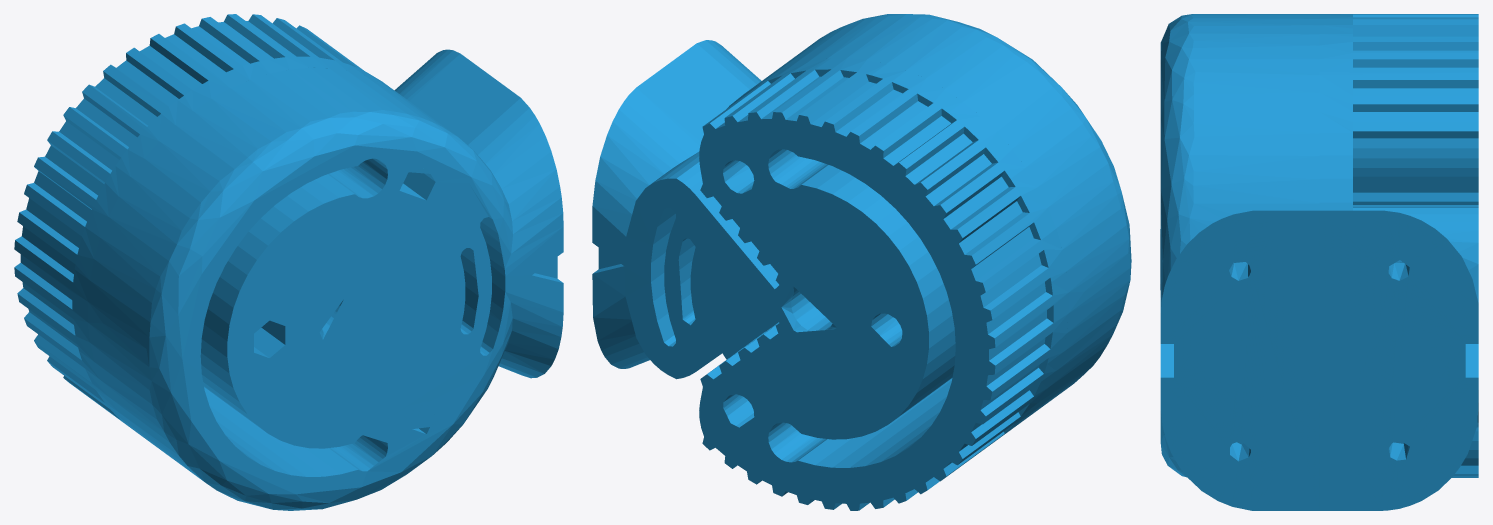
File: BCN3DMoveoLink6.dae
The picture shows the model from 3 angles, left to right: view 1: azimuth 30°, elevation 25°; view 2: azimuth 150°, elevation 25°; view 3: azimuth 270°, elevation 25°; orthographic projection. The views are drawn at different scales.
Visible parts, largest first — view 1: BCN3DLink6; view 2: BCN3DLink6; view 3: BCN3DLink6.
Part boxes in pixels (<box>): BCN3DLink6: <box>14,14,563,510</box>; BCN3DLink6: <box>592,14,1131,510</box>; BCN3DLink6: <box>1160,14,1478,510</box>.
Bounding box in the file's own units: 0.076 × 0.0481 × 0.07.
